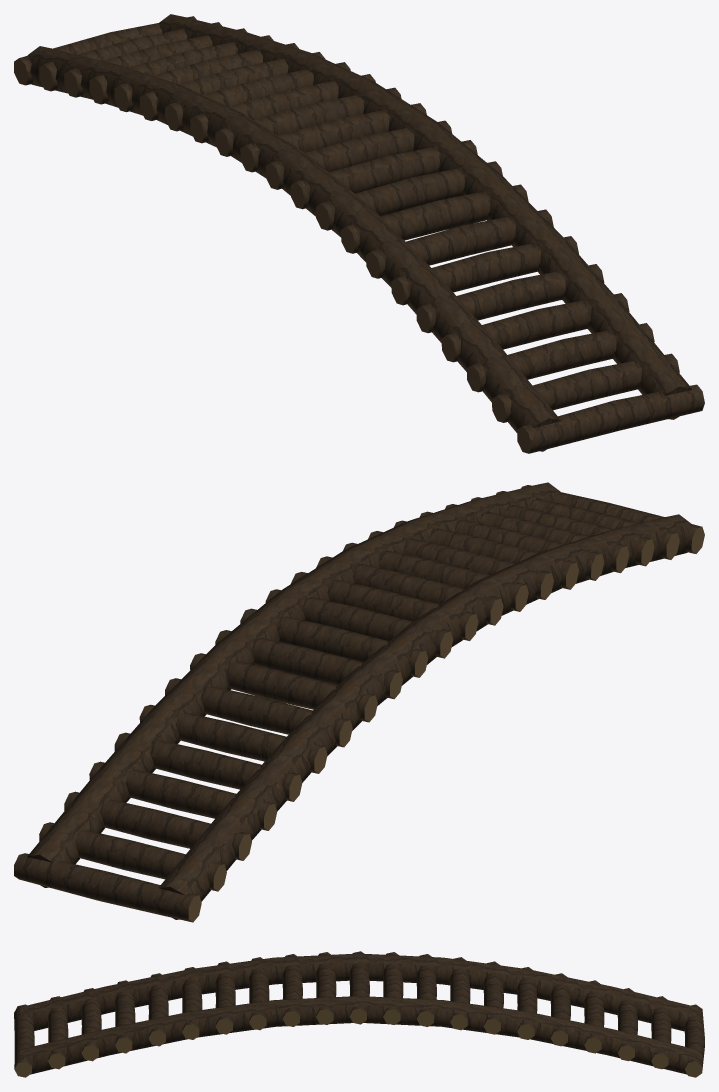
3 renders of one model, top to bottom at view 1: azimuth 30°, elevation 25°; view 2: azimuth 150°, elevation 25°; view 3: azimuth 270°, elevation 25°, orthographic. The views are drawn at different scales.
Parts seen in each view (by area): view 1: Root arch runner; view 2: Root arch runner; view 3: Root arch runner.
Boxes of the visible parts, left/top/right/bottom form: Root arch runner: left=14, top=14, right=704, bottom=453; Root arch runner: left=14, top=482, right=704, bottom=922; Root arch runner: left=14, top=951, right=704, bottom=1077.
Size of the model in its own units: 3.21 by 2.07 by 16.5.
2 materials, 1 textured.
